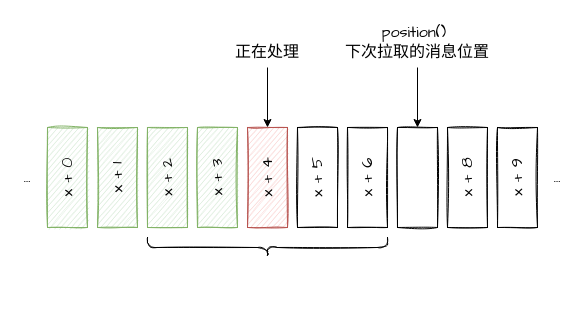
Some shapes in this 584 by 309 pixel diagram are drawn without their labels. The shapes that lost their labels are listed below. From the top down, each one's box as (x1, y1, x2, y2) in pixels, then its label:
(396, 126, 438, 228): x + 7
(146, 236, 388, 258): poll() 拉取的消息集
